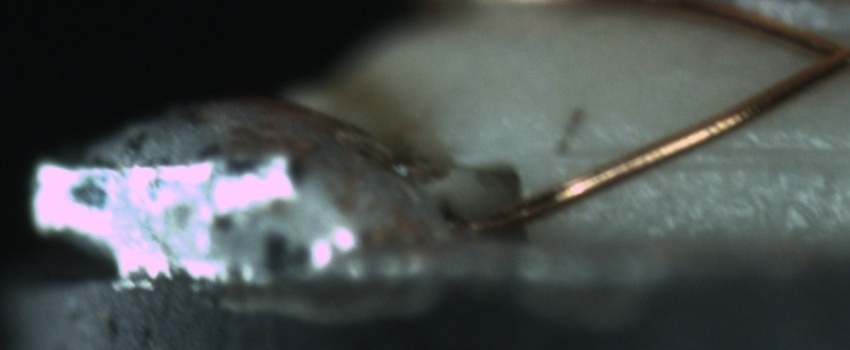CL: (798, 27, 850, 85)
DL: (561, 122, 846, 185)
